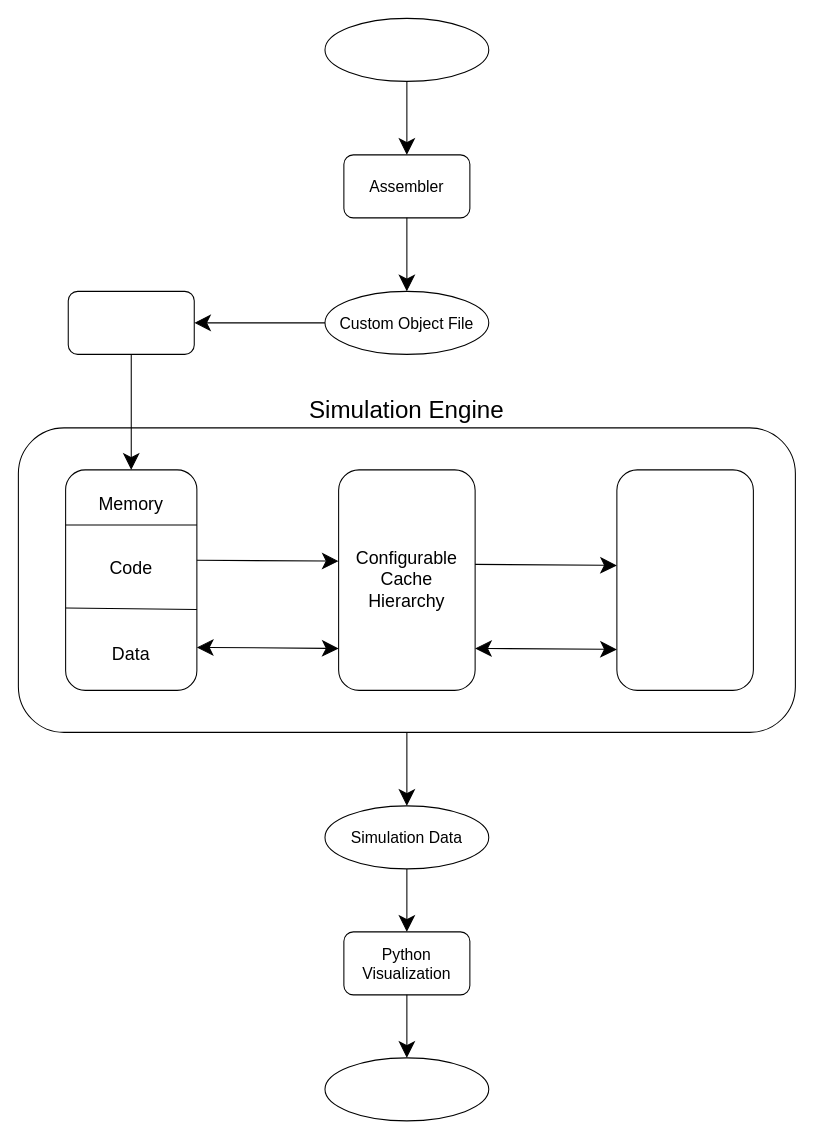
Some shapes in this 814 by 1139 pixel diagram are drawn without their labels. Each missing label, with the centre of its shape:
"Assembly Code" belongs at pixel 406 49.
"CPU" belongs at pixel 684 579.
"Graphs" belongs at pixel 406 1089.
"Loader" belongs at pixel 130 322.
